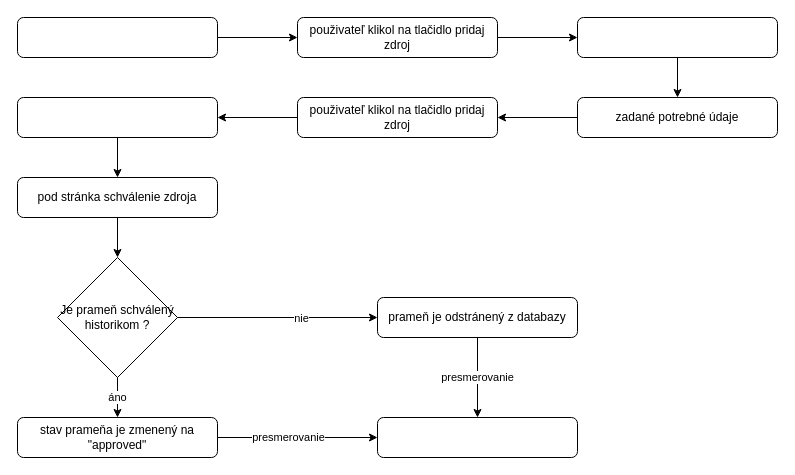
Some shapes in this 795 by 475 pixel diagram are drawn without their labels. Here are the shapes that lost their labels. From the top down, the centre of each, then its label:
point (117, 37): pod stránka mapa Slovenska
point (677, 37): výber typu zdroja
point (117, 117): údaje pridané do databázy so stavom "added"
point (477, 437): hlavná stránka
